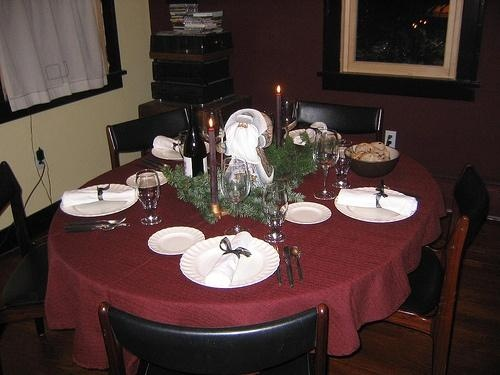bottle: (183, 103, 210, 183)
chair: (387, 164, 489, 372), (96, 299, 334, 375), (1, 162, 52, 341), (104, 111, 195, 169), (286, 99, 398, 133)
diningtable: (49, 135, 440, 375)
